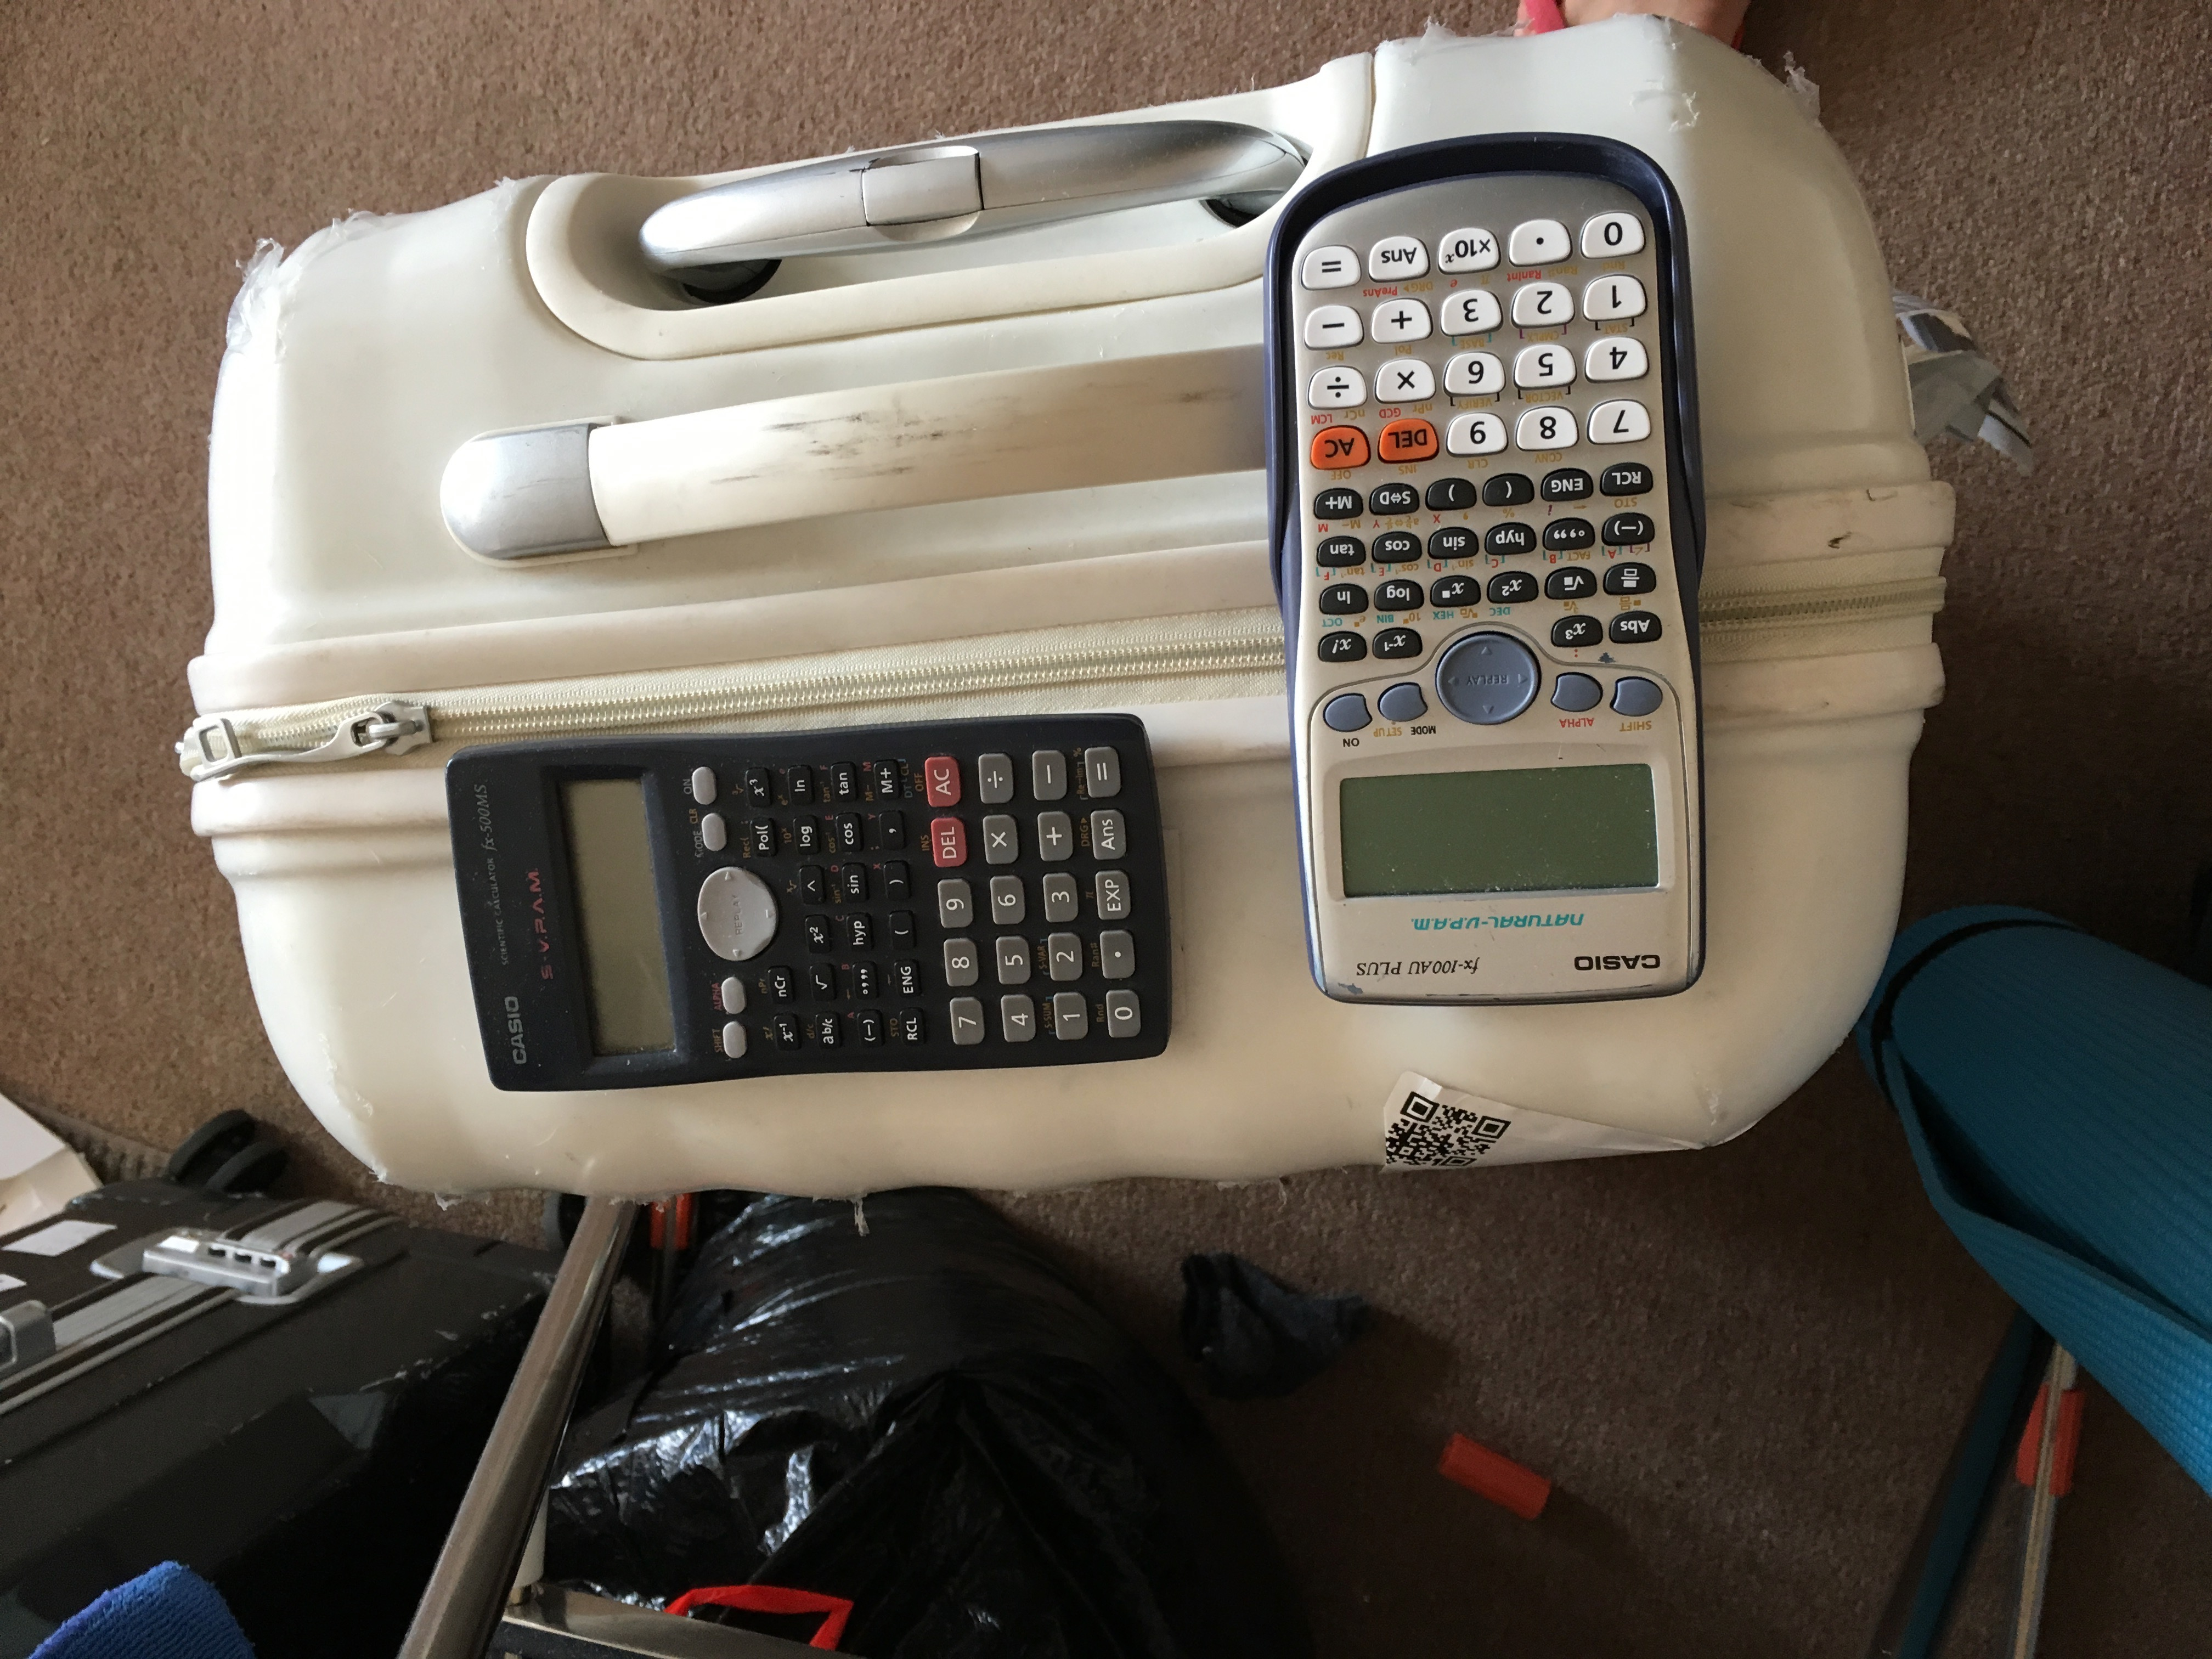Calculator: (1256, 131, 1723, 1021), (418, 699, 1197, 1110)
